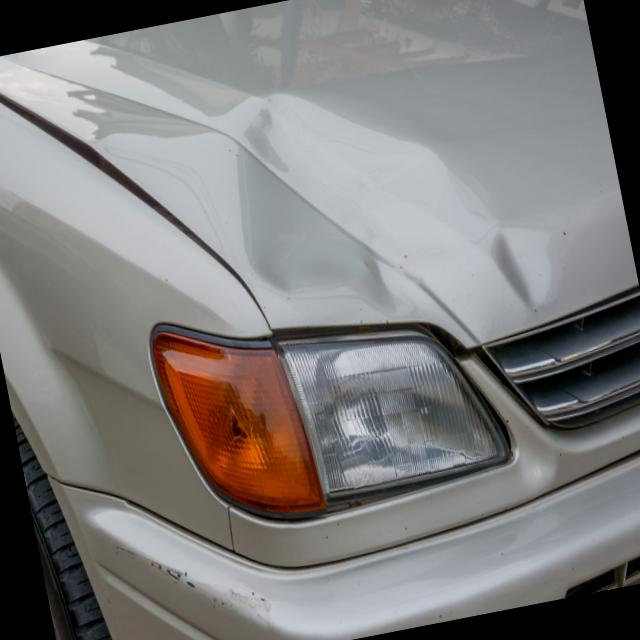Cabossage: (210, 68, 412, 344), (482, 205, 566, 318)
Rayure: (109, 513, 341, 640)
